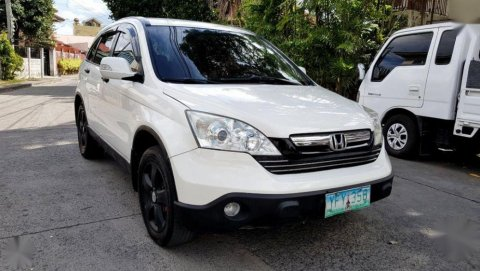car: (72, 16, 394, 246), (362, 22, 480, 158)
